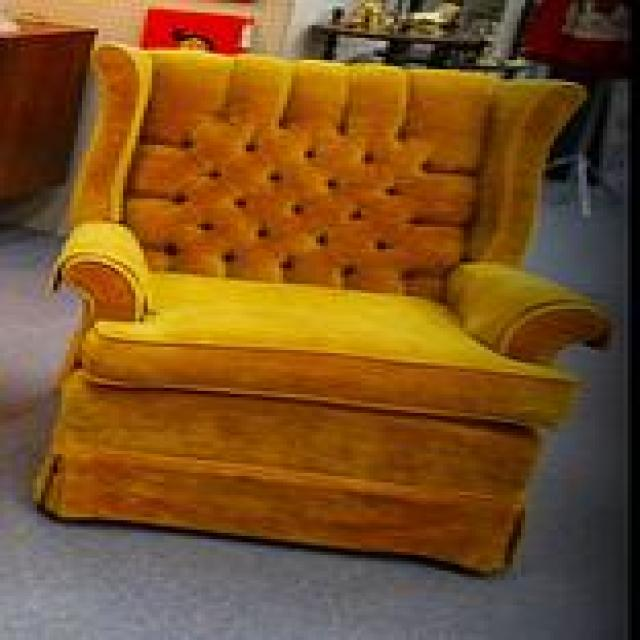sofa: (36, 39, 616, 580)
